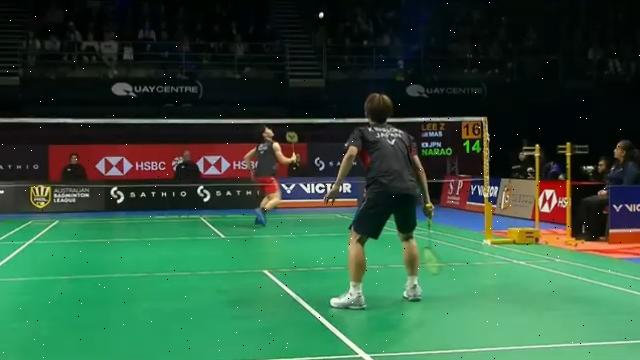Shuttlecock: (315, 9, 325, 20)
